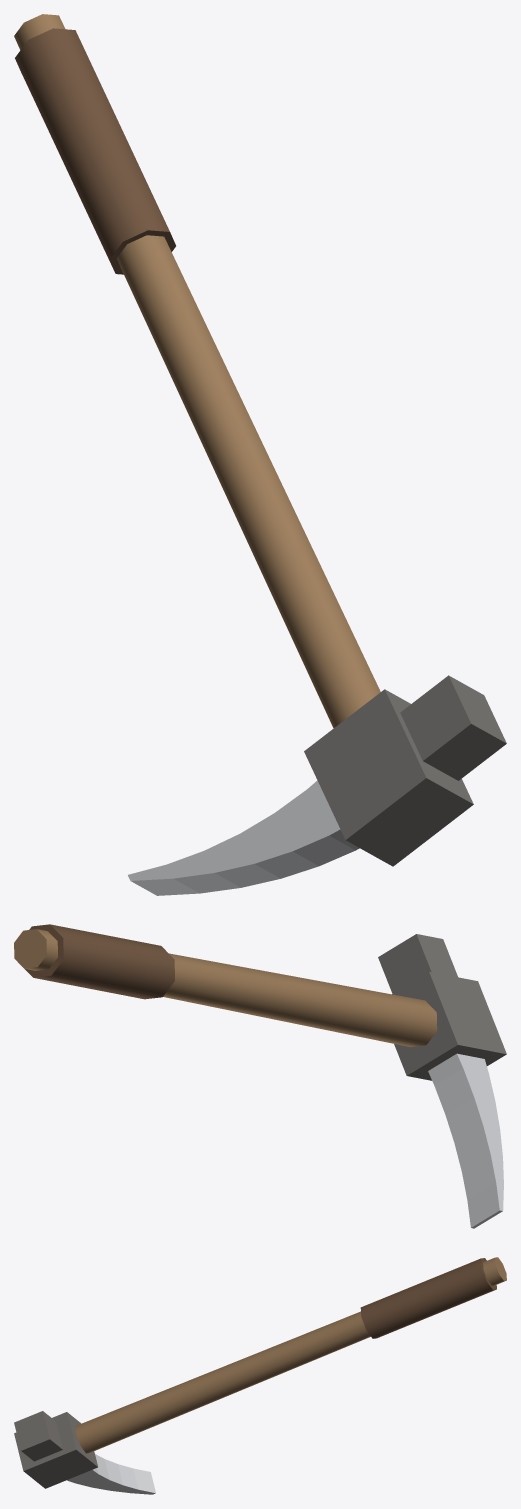
The model's file is wpn_pick.glb.
The picture shows the model from 3 angles, top to bottom: view 1: azimuth 30°, elevation 25°; view 2: azimuth 150°, elevation 25°; view 3: azimuth 270°, elevation 25°; orthographic projection. The views are drawn at different scales.
Visible parts, largest first — view 1: wpn_pick; view 2: wpn_pick; view 3: wpn_pick.
Boxes of the visible parts, x1,y1,x2,y2 form: wpn_pick: (14, 14, 506, 895); wpn_pick: (14, 924, 506, 1228); wpn_pick: (14, 1257, 506, 1494).
Size of the model in its own units: 0.1237 by 0.2383 by 0.364.
